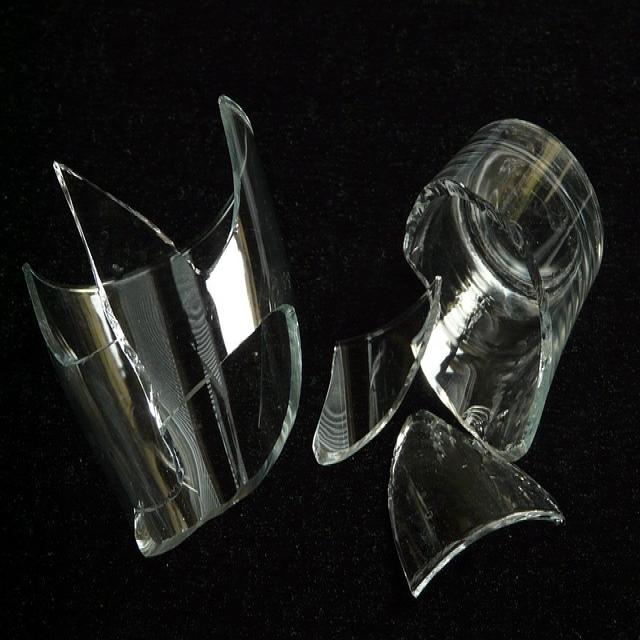PecahanKaca: (19, 88, 304, 562), (406, 116, 606, 463), (388, 406, 566, 599), (319, 274, 439, 482)
